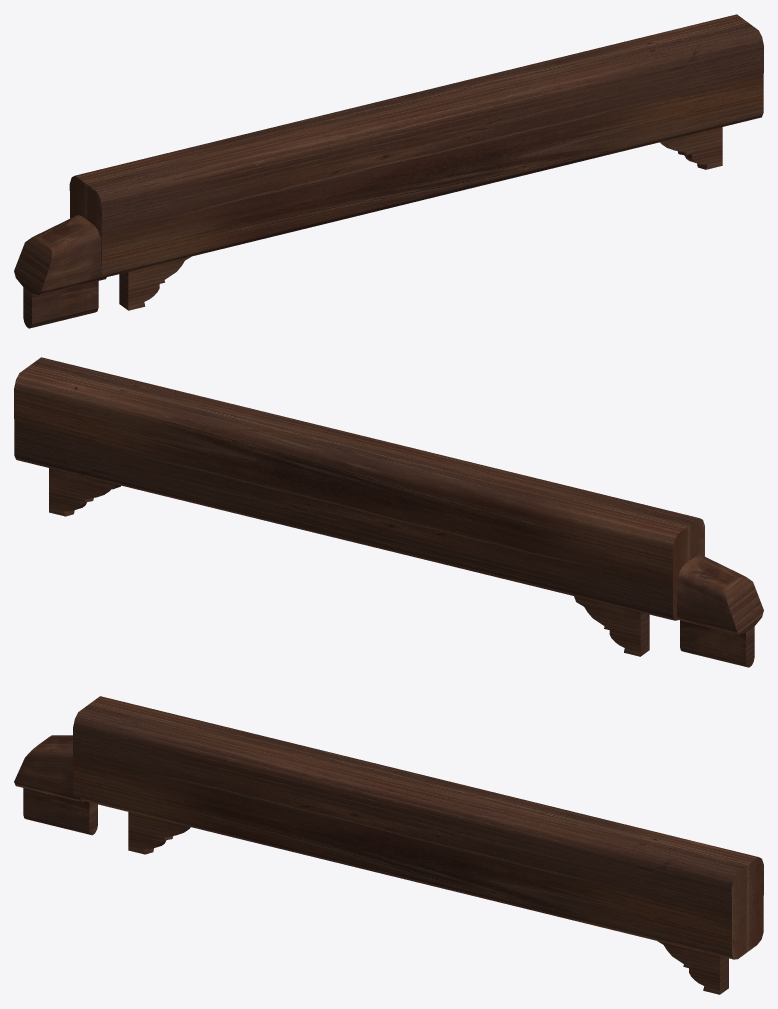
Rendered from SM_R_Beam_34.fbx.
3 renders of one model, top to bottom at view 1: azimuth 30°, elevation 25°; view 2: azimuth 150°, elevation 25°; view 3: azimuth 330°, elevation 25°, orthographic.
Parts seen in each view (by area): view 1: SM_R_Beam_34; view 2: SM_R_Beam_34; view 3: SM_R_Beam_34.
Part boxes in pixels (x1,y1,x2,y2): SM_R_Beam_34: (14,14,763,328); SM_R_Beam_34: (14,357,763,667); SM_R_Beam_34: (14,696,763,994).
Size of the model in its own units: 331 by 25.71 by 59.53.
Materials: 3 (3 with a texture image).
